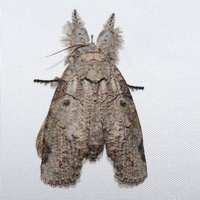insect: (34, 10, 146, 185)
